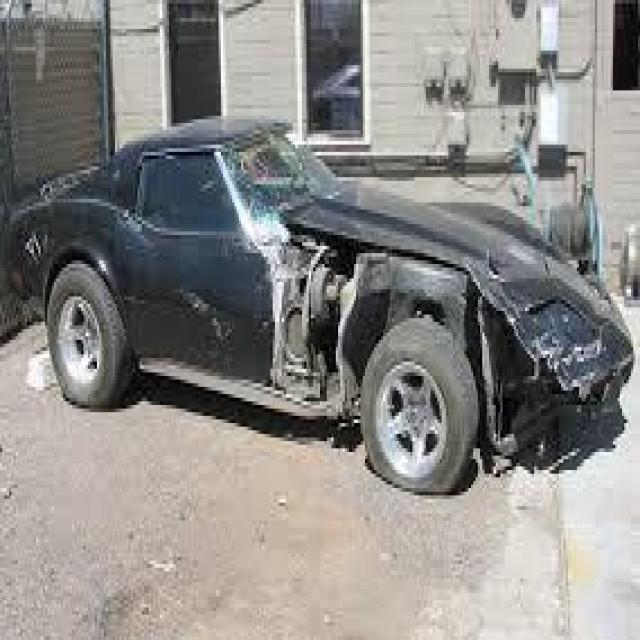damaged: (259, 210, 627, 460)
